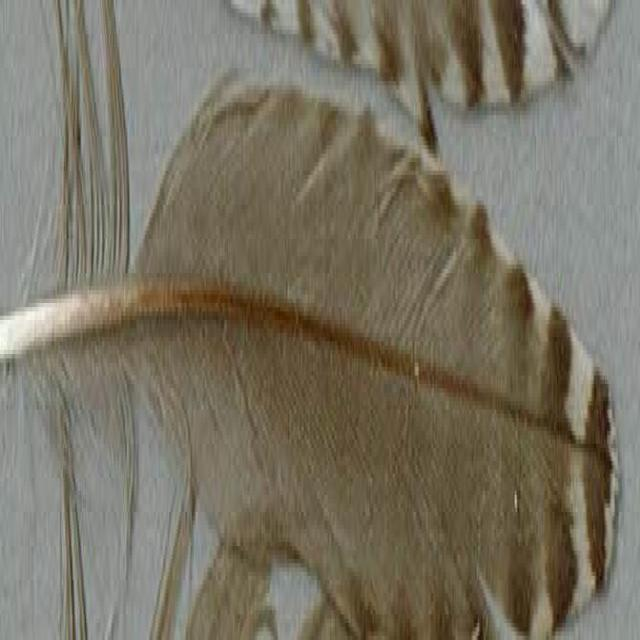feather: (0, 77, 620, 640)
